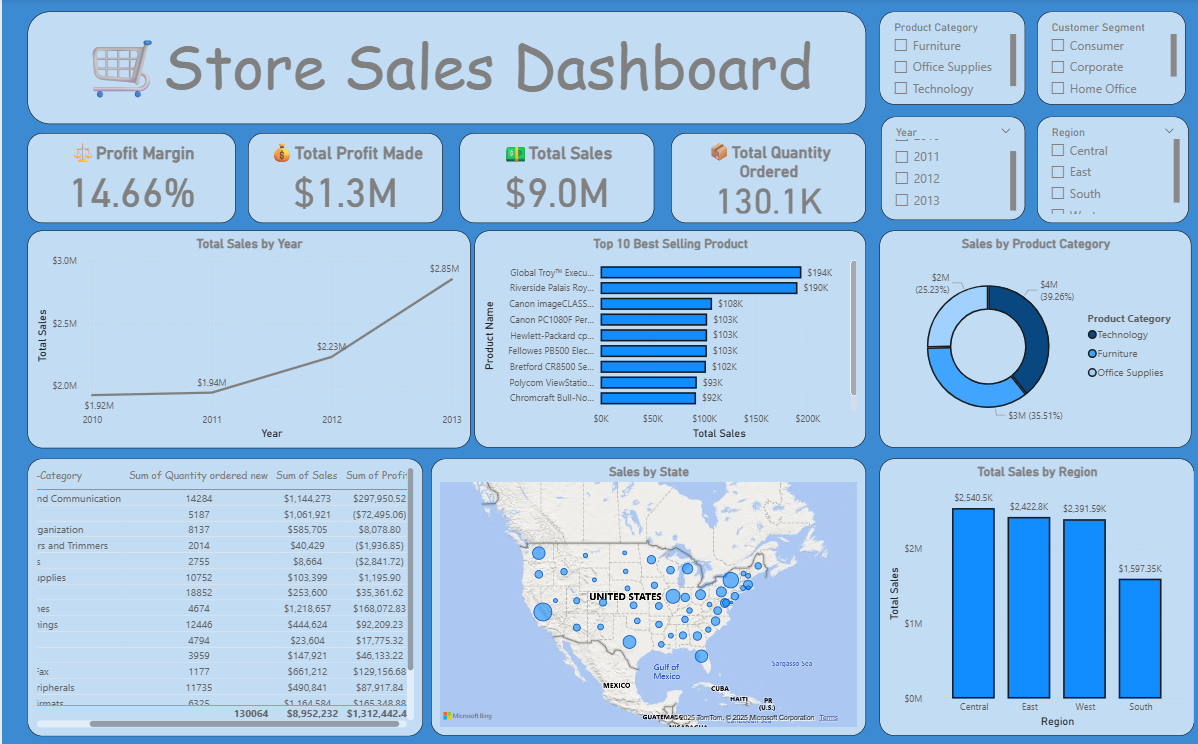

The dashboard page shown, as its layout file describes it:
{"tool":"powerbi","page":{"name":"Page 1","canvas":[1600,1000],"ordinal":0},"visuals":[{"type":"card","title":"⚖️Profit Margin","fields":{"Values":["Table1.Profit Margin"]},"box":[34,179.8,277.6,119.8],"z":0},{"type":"card","title":"💰Total Profit Made","fields":{"Values":["Table1.Total Profit"]},"box":[327.6,179.8,259.7,119.8],"z":1000},{"type":"card","title":" 💵Total Sales","fields":{"Values":["Table1.Total Sales"]},"box":[609.2,179.8,259.7,119.8],"z":2000},{"type":"card","title":"📦Total Quantity Ordered","fields":{"Values":["Table1.Total Quantity"]},"box":[890.8,179.8,259.7,119.8],"z":3000},{"type":"lineChart","title":"Total Sales by Year","fields":{"Y":["Table1.Total Sales"],"Category":["Table1.Order Date.Variation.Date Hierarchy.Year"]},"box":[33.3,310,590,290],"z":5000},{"type":"columnChart","fields":{"Y":["Table1.Total Sales"],"Category":["Table1.Region"]},"box":[1168.5,613.2,419.4,369.5],"z":6000},{"type":"clusteredBarChart","title":"Top 10 Best Selling Product","fields":{"Category":["Table1.Product Name"],"Y":["Table1.Total Sales"]},"box":[629.2,309.6,521.3,289.6],"z":7000},{"type":"map","title":"Sales by State ","fields":{"Size":["Sum(Table1.Sales)"],"Category":["Table1.State or Province"]},"box":[571.3,613.2,579.2,369.5],"z":8000},{"type":"donutChart","title":"Sales by Product Category","fields":{"Category":["Table1.Product Category"],"Y":["Sum(Table1.Sales)"]},"box":[1168.5,309.6,415.5,289.6],"z":9000},{"type":"tableEx","fields":{"Values":["Table1.Product Sub-Category","Sum(Table1.Quantity ordered new)","Sum(Table1.Sales)","Sum(Table1.Profit)"]},"box":[33.3,613.3,526.7,370],"z":10000},{"type":"slicer","fields":{"Values":["Table1.Order Date.Variation.Date Hierarchy.Year"]},"box":[1170.5,157.8,191.7,137.8],"z":11000},{"type":"slicer","fields":{"Values":["Table1.Product Category"]},"box":[1168.5,18,193.7,123.8],"z":12000},{"type":"slicer","fields":{"Values":["Table1.Region"]},"box":[1378.2,157.8,201.7,141.8],"z":13000},{"type":"slicer","fields":{"Values":["Table1.Customer Segment"]},"box":[1378.2,18,197.7,123.8],"z":14000},{"type":"textbox","box":[34,18,1116.5,149.8],"z":15000}]}

Visuals, with their boxes in screenshot pixels (x1, y1, x2, y2), scaled from the page's 1600x1000 canvas onto the 1198x744 screenshot:
"⚖️Profit Margin" card: 25 134 233 223
"💰Total Profit Made" card: 245 134 440 223
" 💵Total Sales" card: 456 134 651 223
"📦Total Quantity Ordered" card: 667 134 861 223
"Total Sales by Year" lineChart: 25 231 467 446
columnChart - Table1.Total Sales x Table1.Region: 875 456 1189 731
"Top 10 Best Selling Product" clusteredBarChart: 471 230 861 446
"Sales by State " map: 428 456 861 731
"Sales by Product Category" donutChart: 875 230 1186 446
tableEx - Table1.Product Sub-Category x Sum(Table1.Quantity ordered new): 25 456 419 732
slicer - Table1.Order Date.Variation.Date Hierarchy.Year: 876 117 1020 220
slicer - Table1.Product Category: 875 13 1020 105
slicer - Table1.Region: 1032 117 1183 223
slicer - Table1.Customer Segment: 1032 13 1180 105
textbox: 25 13 861 125
